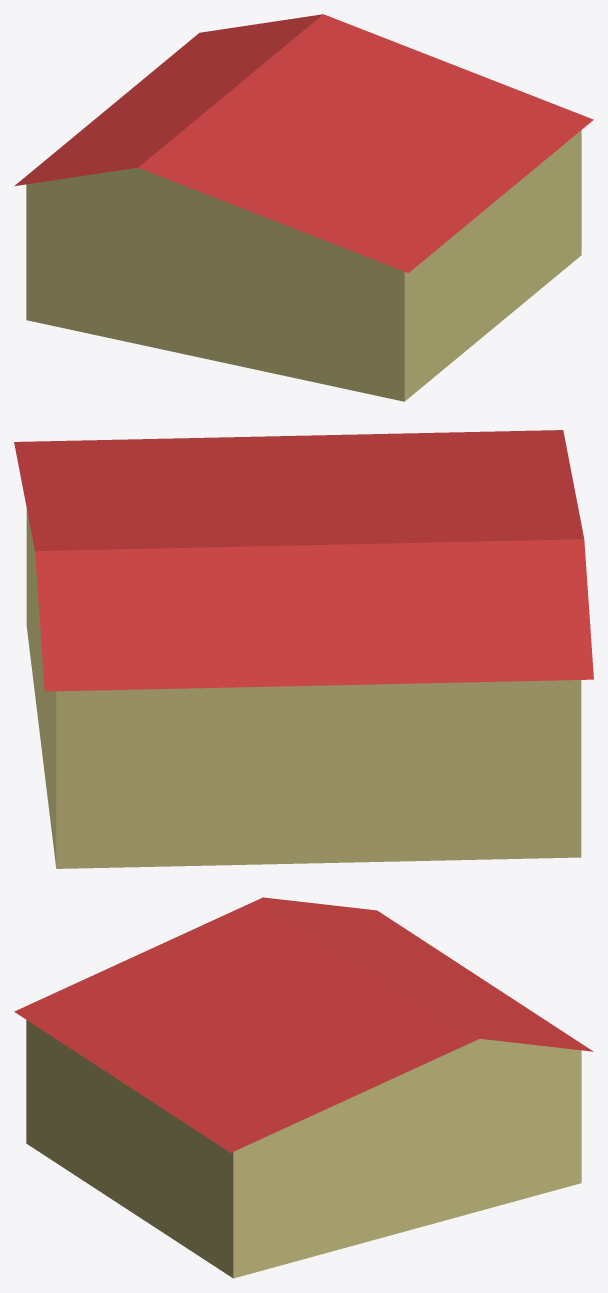
The picture shows the model from 3 angles, top to bottom: view 1: azimuth 30°, elevation 25°; view 2: azimuth 150°, elevation 25°; view 3: azimuth 270°, elevation 25°; orthographic projection. The views are drawn at different scales.
Bounding box in the file's own units: 32.23 × 32.8 × 11.03.
